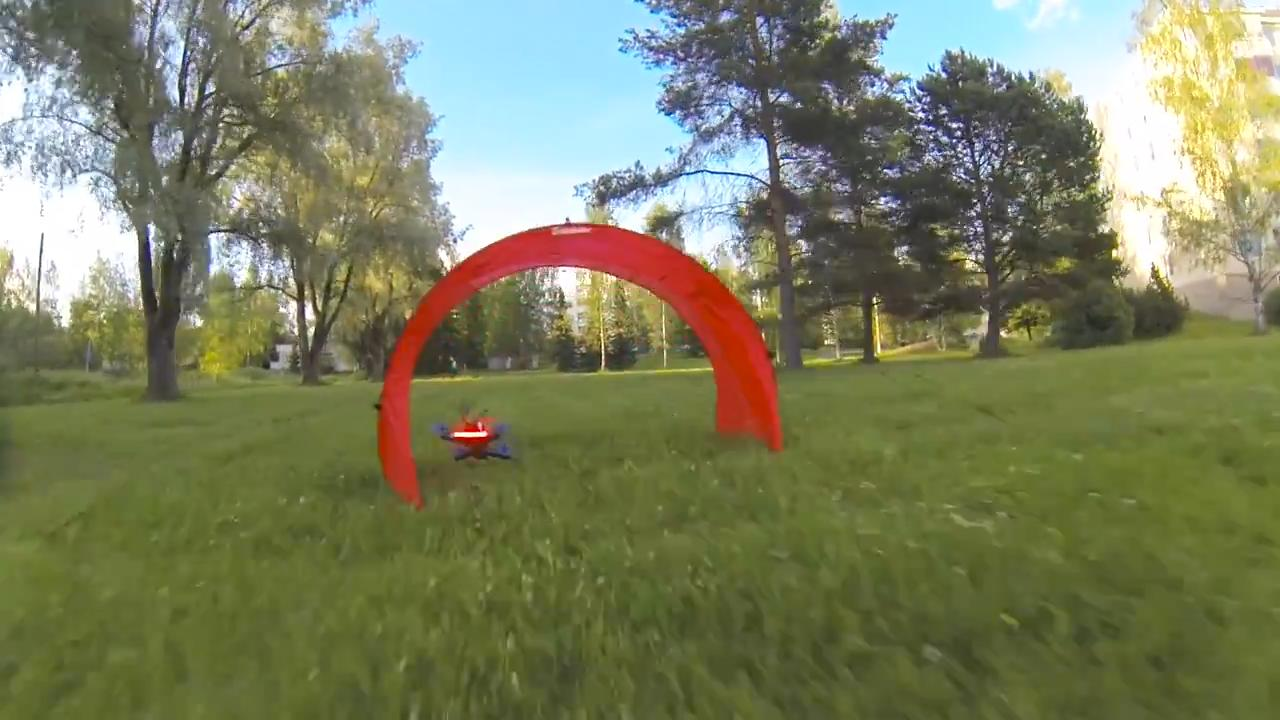gate: (377, 225, 784, 504)
